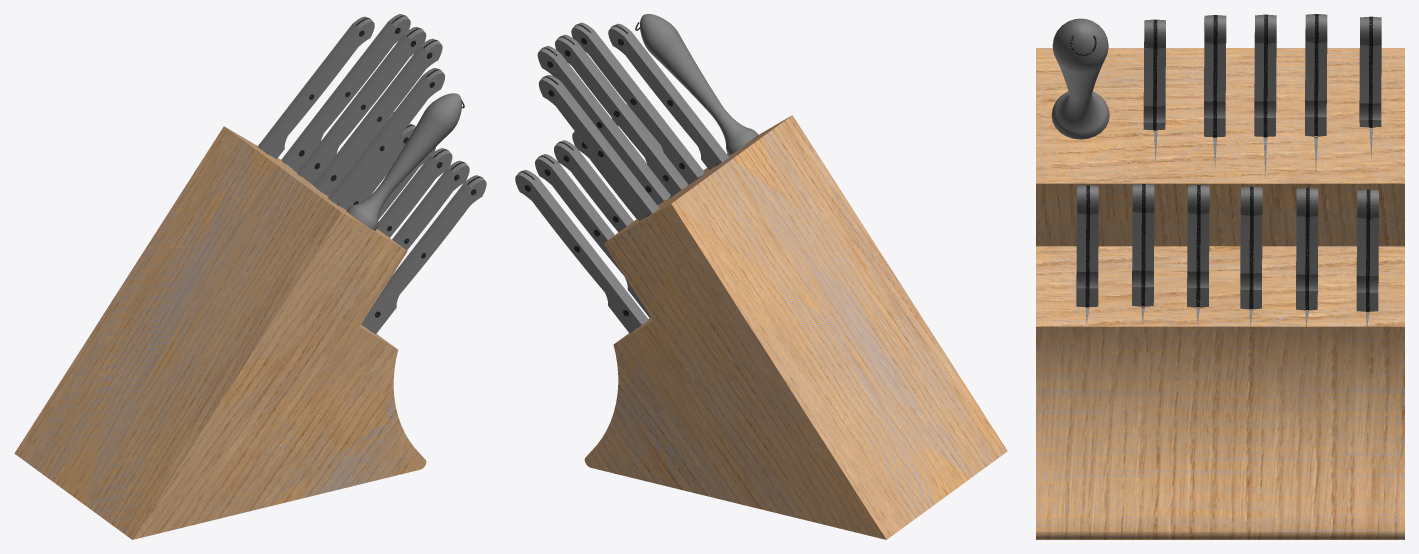
Rendered from faqueiro.dae.
3 views of the same model, side by side, from view 1: azimuth 30°, elevation 25°; view 2: azimuth 150°, elevation 25°; view 3: azimuth 270°, elevation 25° (orthographic). The views are drawn at different scales.
Parts seen in each view (by area): view 1: pdm_knifeblock, pdm_knife_01 (×9), pdm_sharpener; view 2: pdm_knifeblock, pdm_knife_01 (×9), pdm_sharpener; view 3: pdm_knifeblock, pdm_knife_01 (×22), pdm_sharpener.
Part boxes in pixels (left/top/right/bottom): pdm_knifeblock: left=14, top=126, right=426, bottom=539; pdm_knife_01 (×9): left=257, top=14, right=486, bottom=334; pdm_sharpener: left=346, top=93, right=461, bottom=230; pdm_knifeblock: left=584, top=115, right=1007, bottom=539; pdm_knife_01 (×9): left=515, top=22, right=728, bottom=333; pdm_sharpener: left=640, top=14, right=758, bottom=155; pdm_knifeblock: left=1036, top=48, right=1404, bottom=539; pdm_knife_01 (×22): left=1076, top=14, right=1381, bottom=311; pdm_sharpener: left=1051, top=18, right=1109, bottom=139.
Size of the model in its own units: 9.34 by 5.15 by 9.01.
